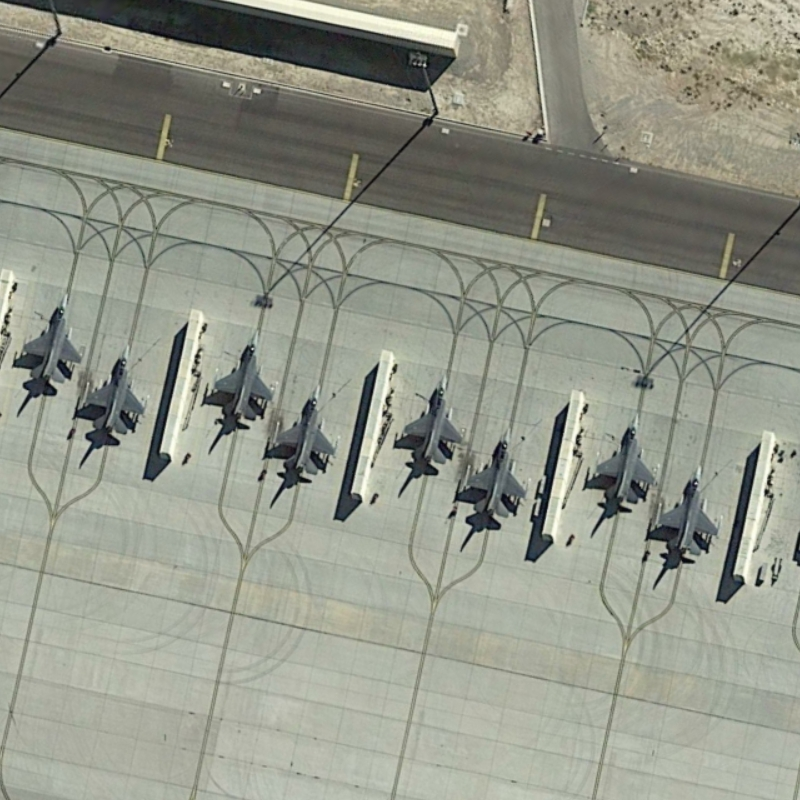A5: (393, 361, 467, 480), (453, 421, 533, 530), (648, 455, 726, 561), (204, 322, 278, 429), (266, 378, 341, 483), (587, 405, 659, 514), (81, 339, 150, 449), (15, 289, 87, 393)
